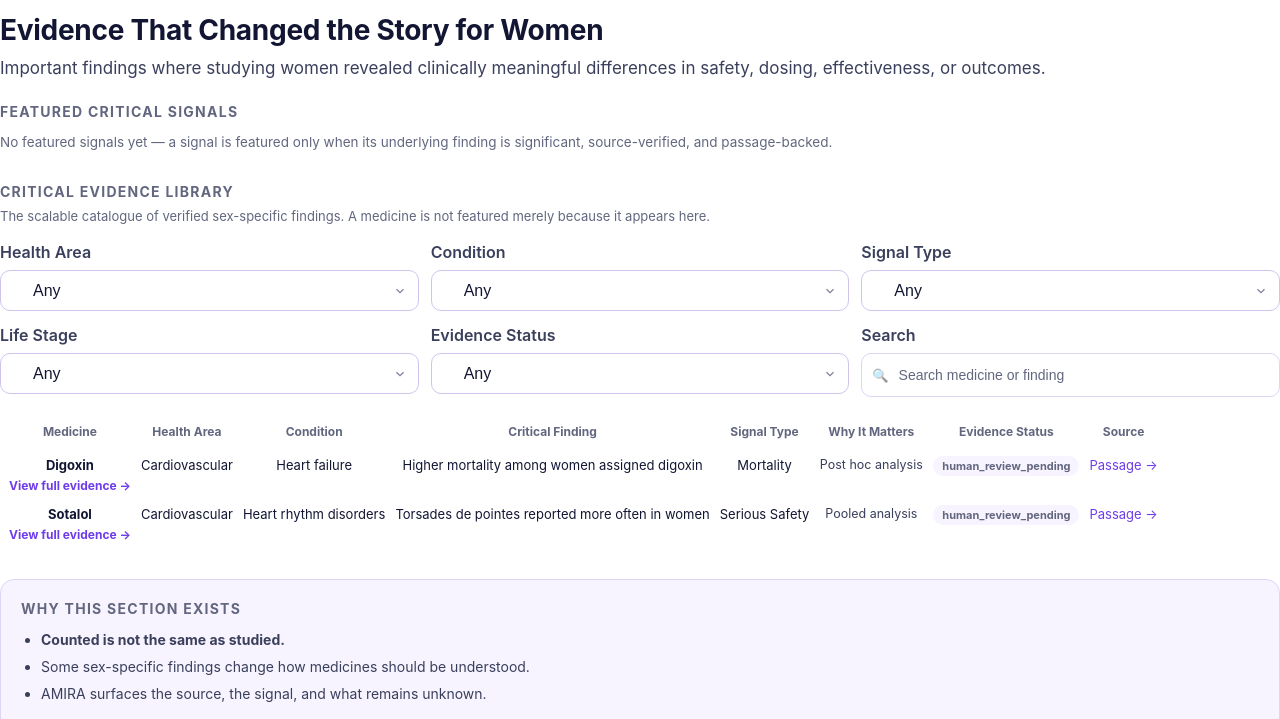
Test: Research Map — Critical Evidence Library search › 16. Filters on medicine and on finding text
In the search field with class "cs-search-input": x=1083, y=375 [896,354,1269,396], type "sotalol"
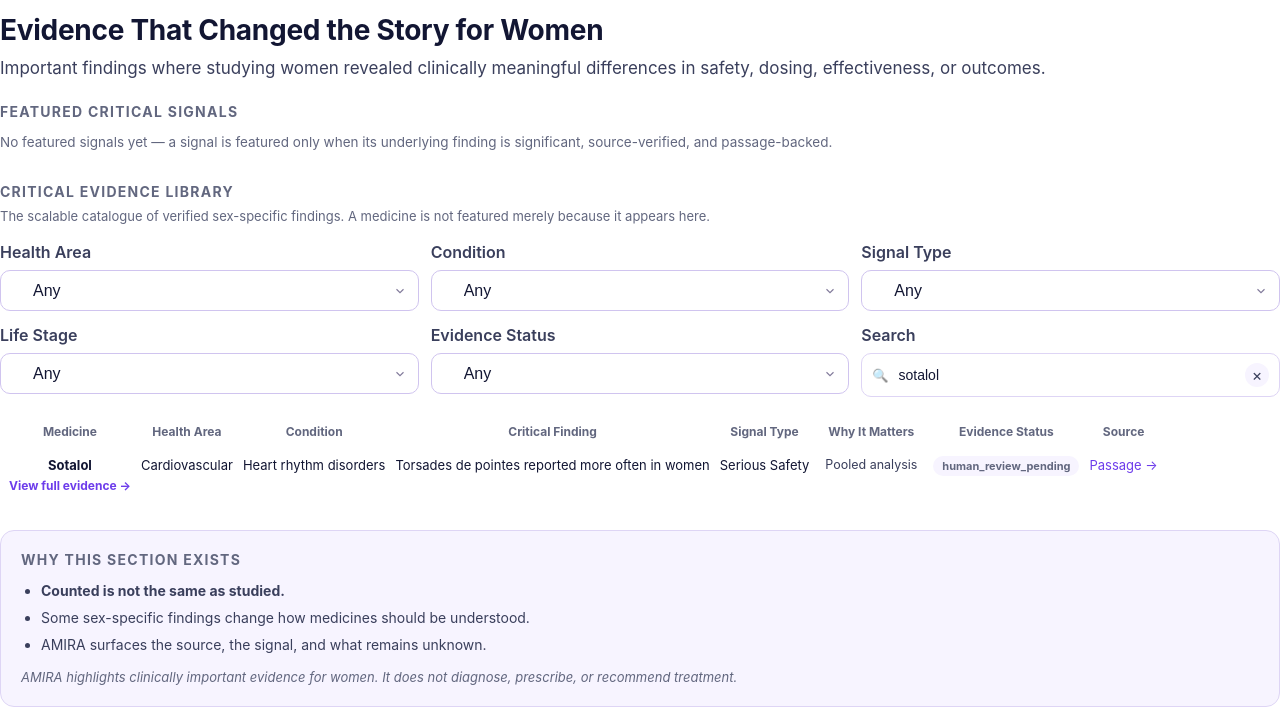
Replace the text in the search field with class "cs-search-input" with "mortality among women": x=1067, y=375 [896,354,1237,396]
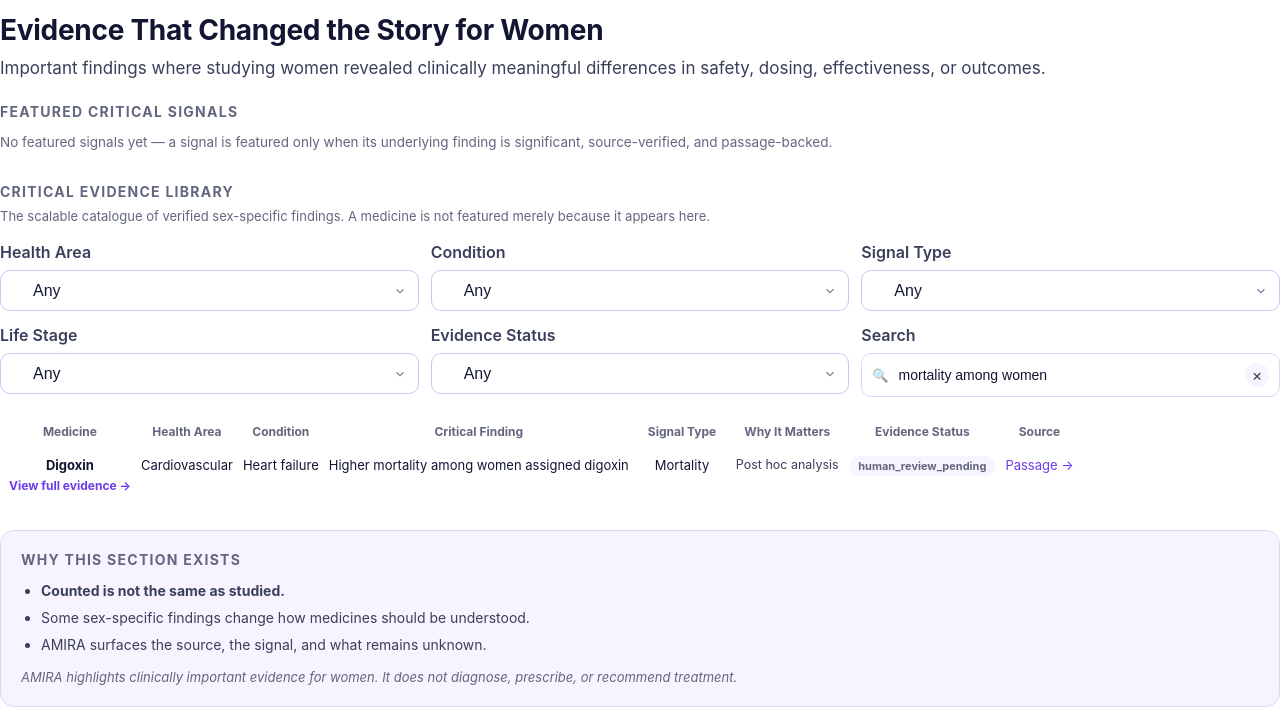
Result: the table shows "Digoxin" at [46,457,94,473]
